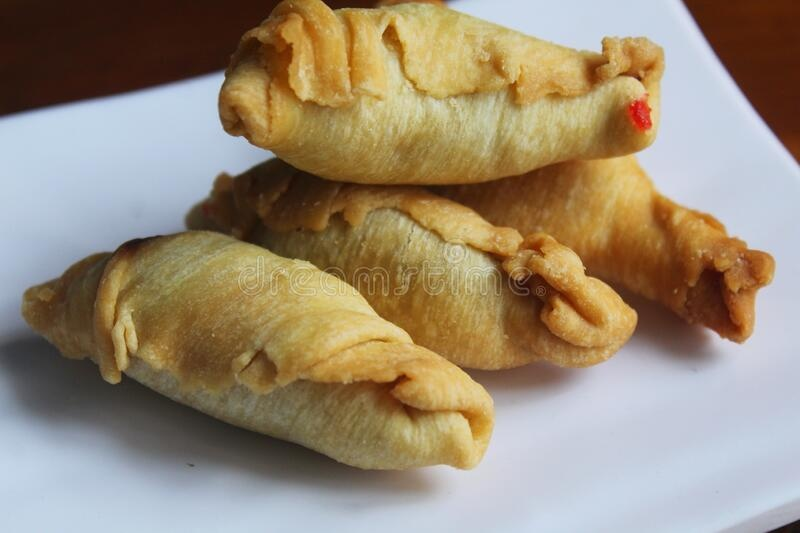pisang_molen: (20, 230, 495, 476), (215, 1, 667, 187)
